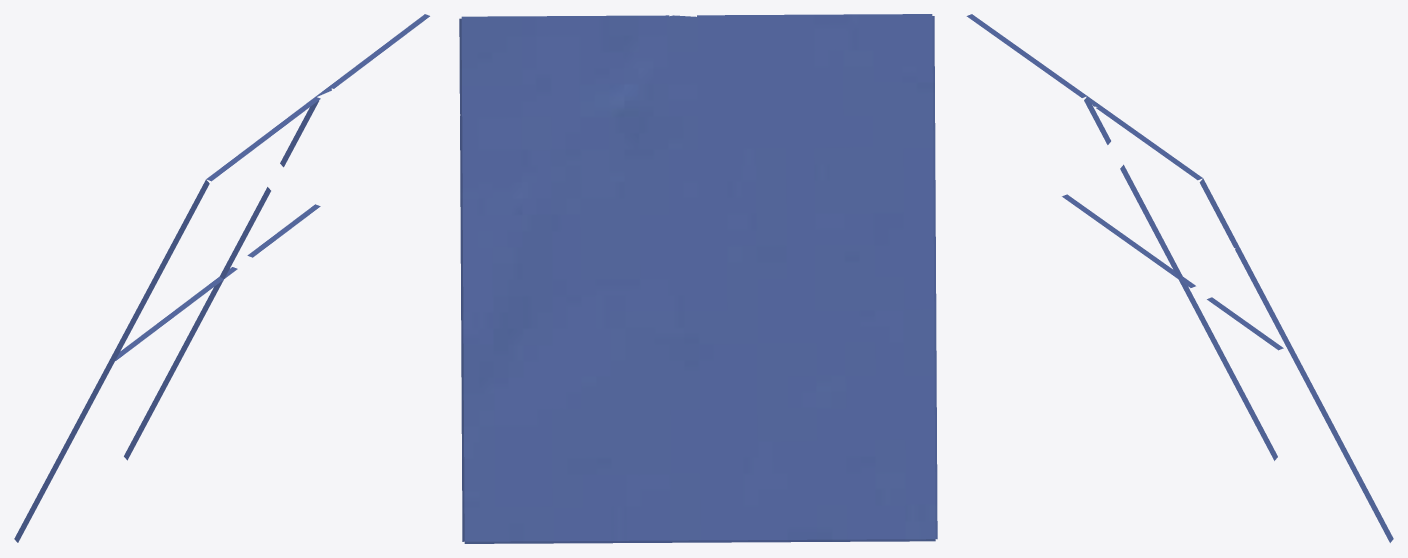
The picture shows the model from 3 angles, left to right: view 1: azimuth 30°, elevation 25°; view 2: azimuth 150°, elevation 25°; view 3: azimuth 270°, elevation 25°; orthographic projection. The views are drawn at different scales.
Size of the model in its own units: 39517 by 35523 by 33356.
1 material, 1 textured.
